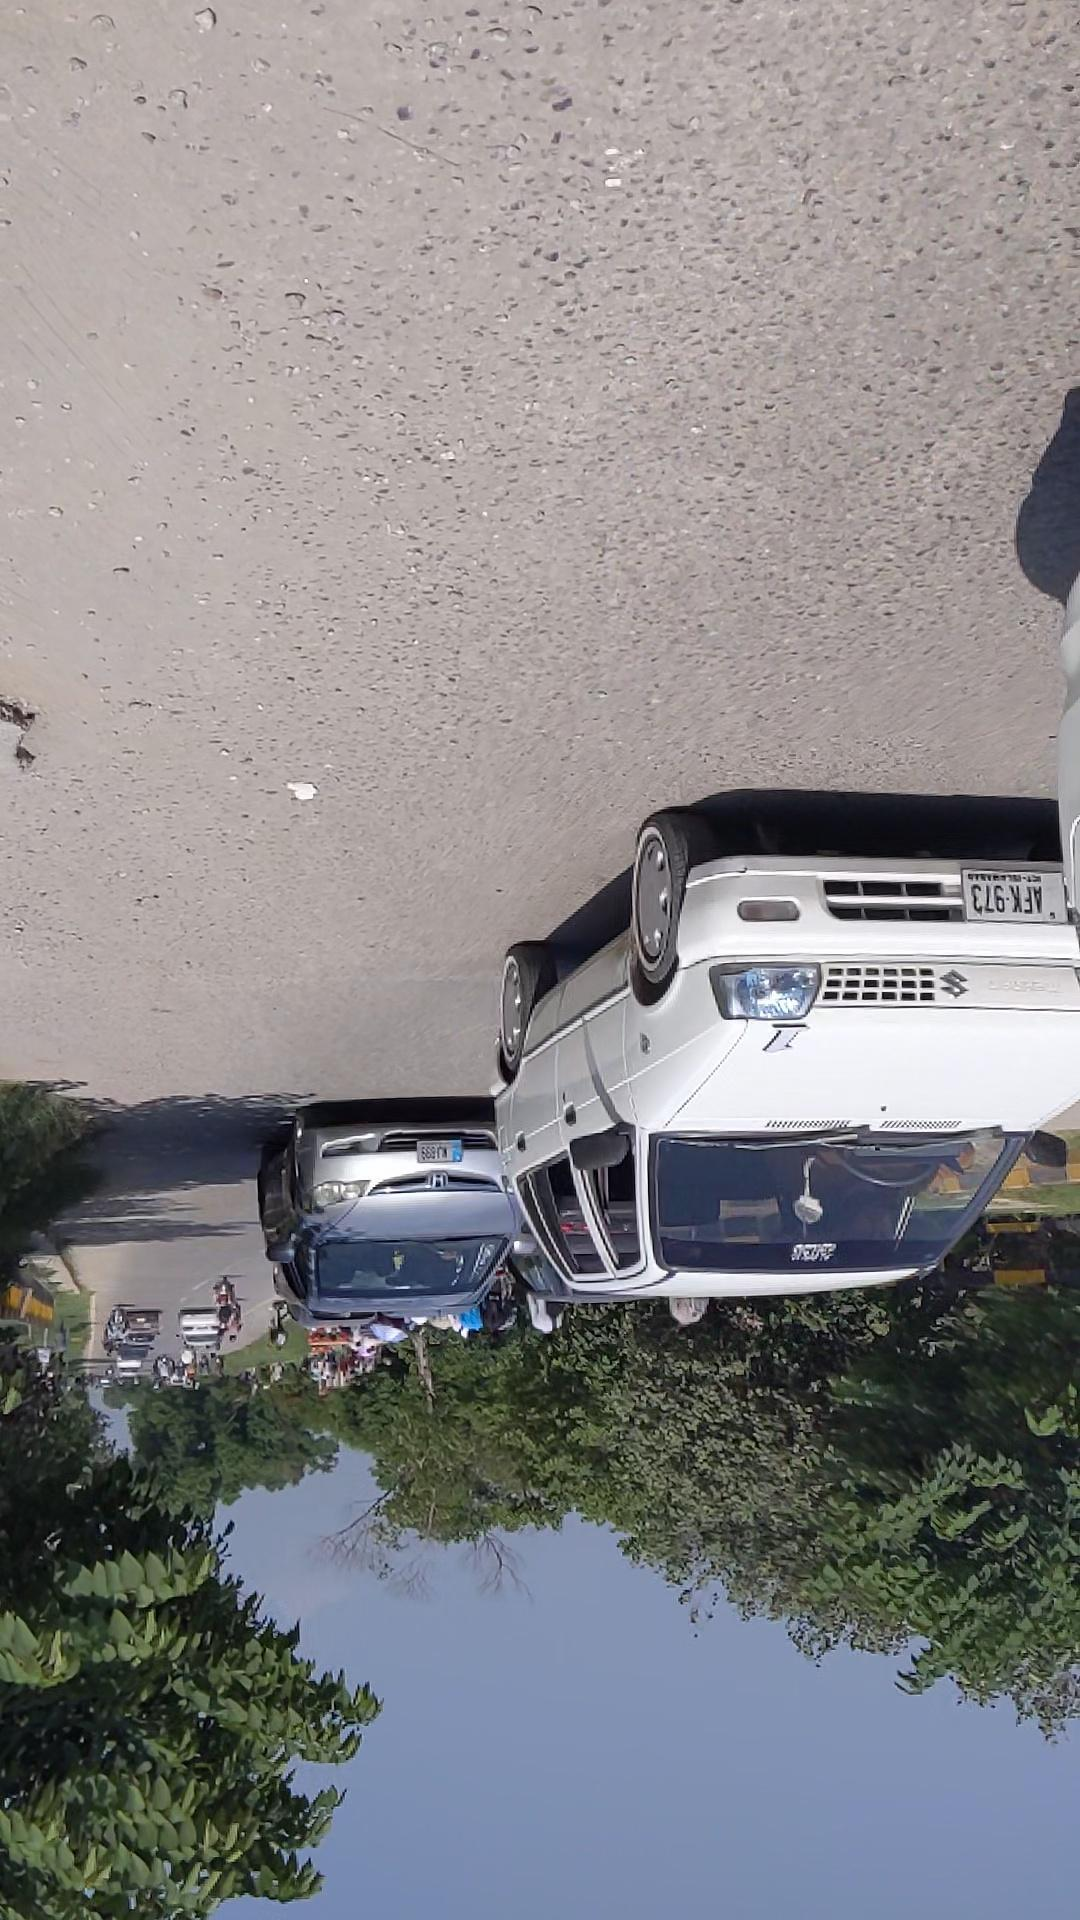windshield: (51, 630, 436, 785), (562, 616, 766, 686)
